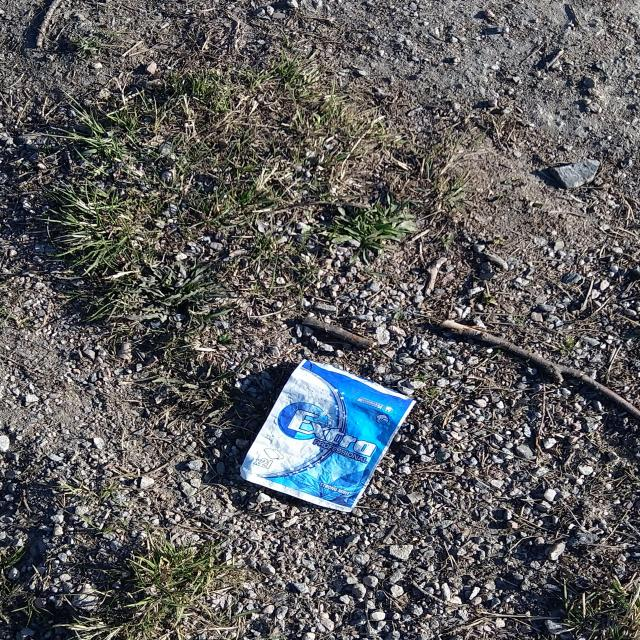litter: (240, 359, 416, 512)
